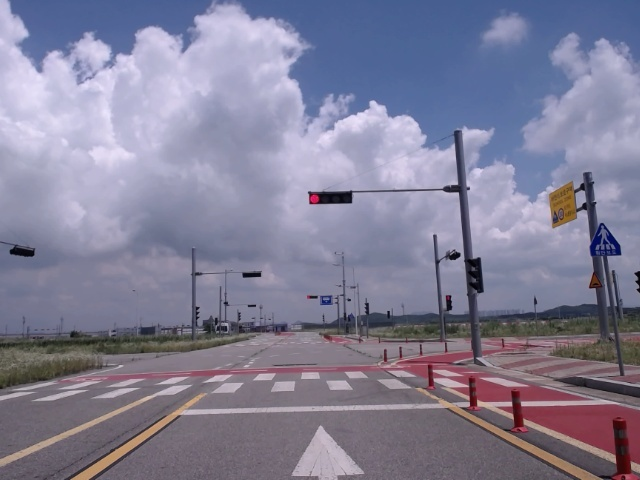red_4: (309, 192, 352, 205)
